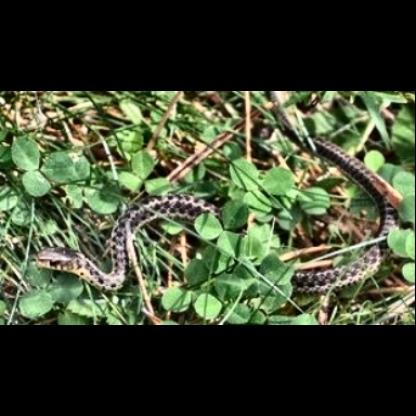Snake: (278, 126, 406, 296), (35, 194, 239, 298)
